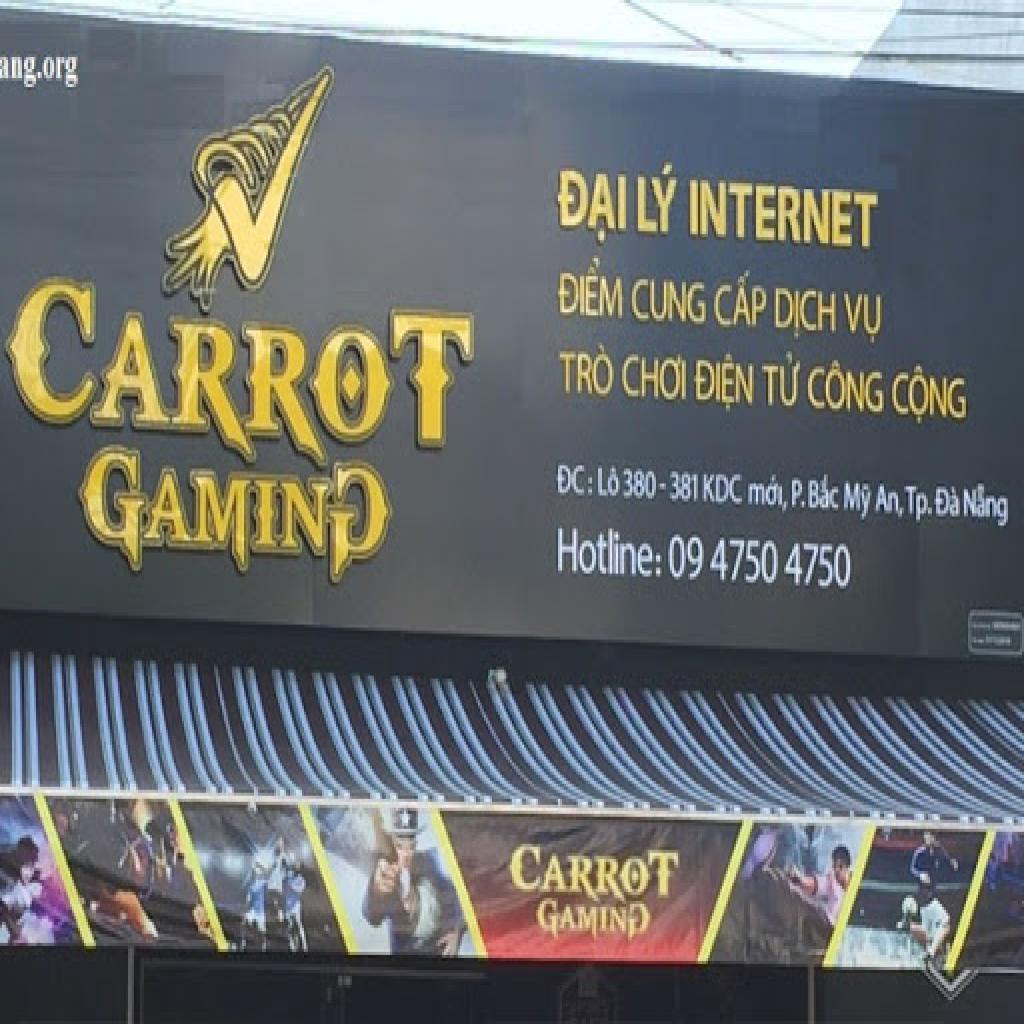text: (4, 262, 482, 462), (60, 436, 332, 574), (684, 171, 886, 255), (504, 847, 686, 904), (552, 516, 666, 580), (554, 159, 632, 249), (886, 360, 970, 432), (904, 480, 1014, 532), (554, 256, 628, 324), (628, 268, 710, 328), (808, 360, 888, 420), (632, 150, 682, 243), (772, 280, 842, 346), (706, 534, 782, 592), (692, 352, 756, 420), (620, 348, 692, 406), (784, 534, 856, 592), (712, 264, 770, 334), (0, 48, 82, 96), (532, 901, 630, 940), (558, 340, 618, 402), (760, 348, 806, 414), (842, 288, 886, 348), (744, 472, 792, 516), (792, 472, 842, 514), (668, 528, 706, 582), (700, 468, 746, 510), (554, 460, 598, 502), (622, 462, 660, 508), (840, 478, 876, 526), (668, 468, 702, 510), (872, 480, 906, 522), (596, 462, 624, 502)
